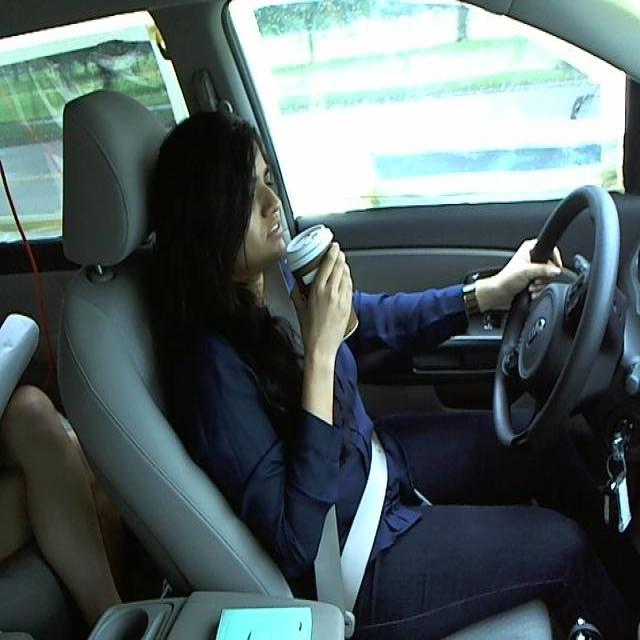Seatbelt: (286, 227, 357, 344)
